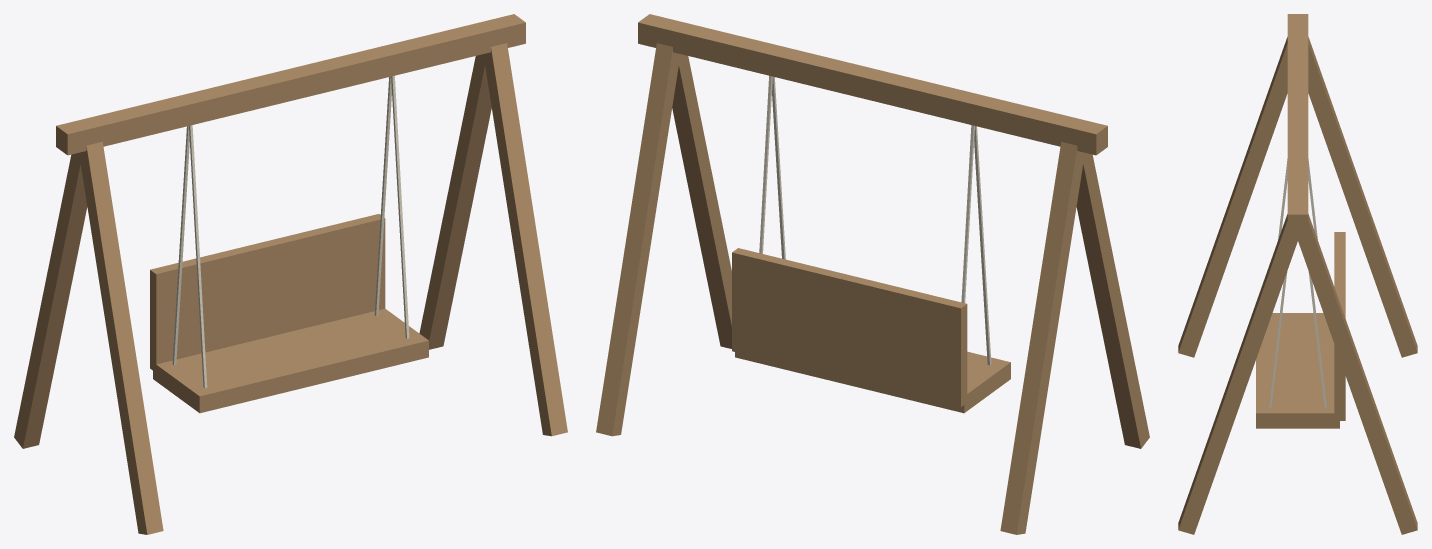
Rendered from swing.glb.
3 views of the same model, side by side, from view 1: azimuth 30°, elevation 25°; view 2: azimuth 150°, elevation 25°; view 3: azimuth 270°, elevation 25° (orthographic). The views are drawn at different scales.
Parts seen in each view (by area): view 1: swing_Modrin, swing_Len; view 2: swing_Modrin, swing_Len; view 3: swing_Modrin, swing_Len.
Boxes of the visible parts, <box> form: swing_Modrin: <box>14,14,567,534</box>; swing_Len: <box>172,75,409,387</box>; swing_Modrin: <box>596,14,1149,534</box>; swing_Len: <box>759,75,991,365</box>; swing_Modrin: <box>1178,14,1417,534</box>; swing_Len: <box>1269,159,1326,407</box>.
Bounding box in the file's own units: 3.4 × 2.59 × 1.71.
